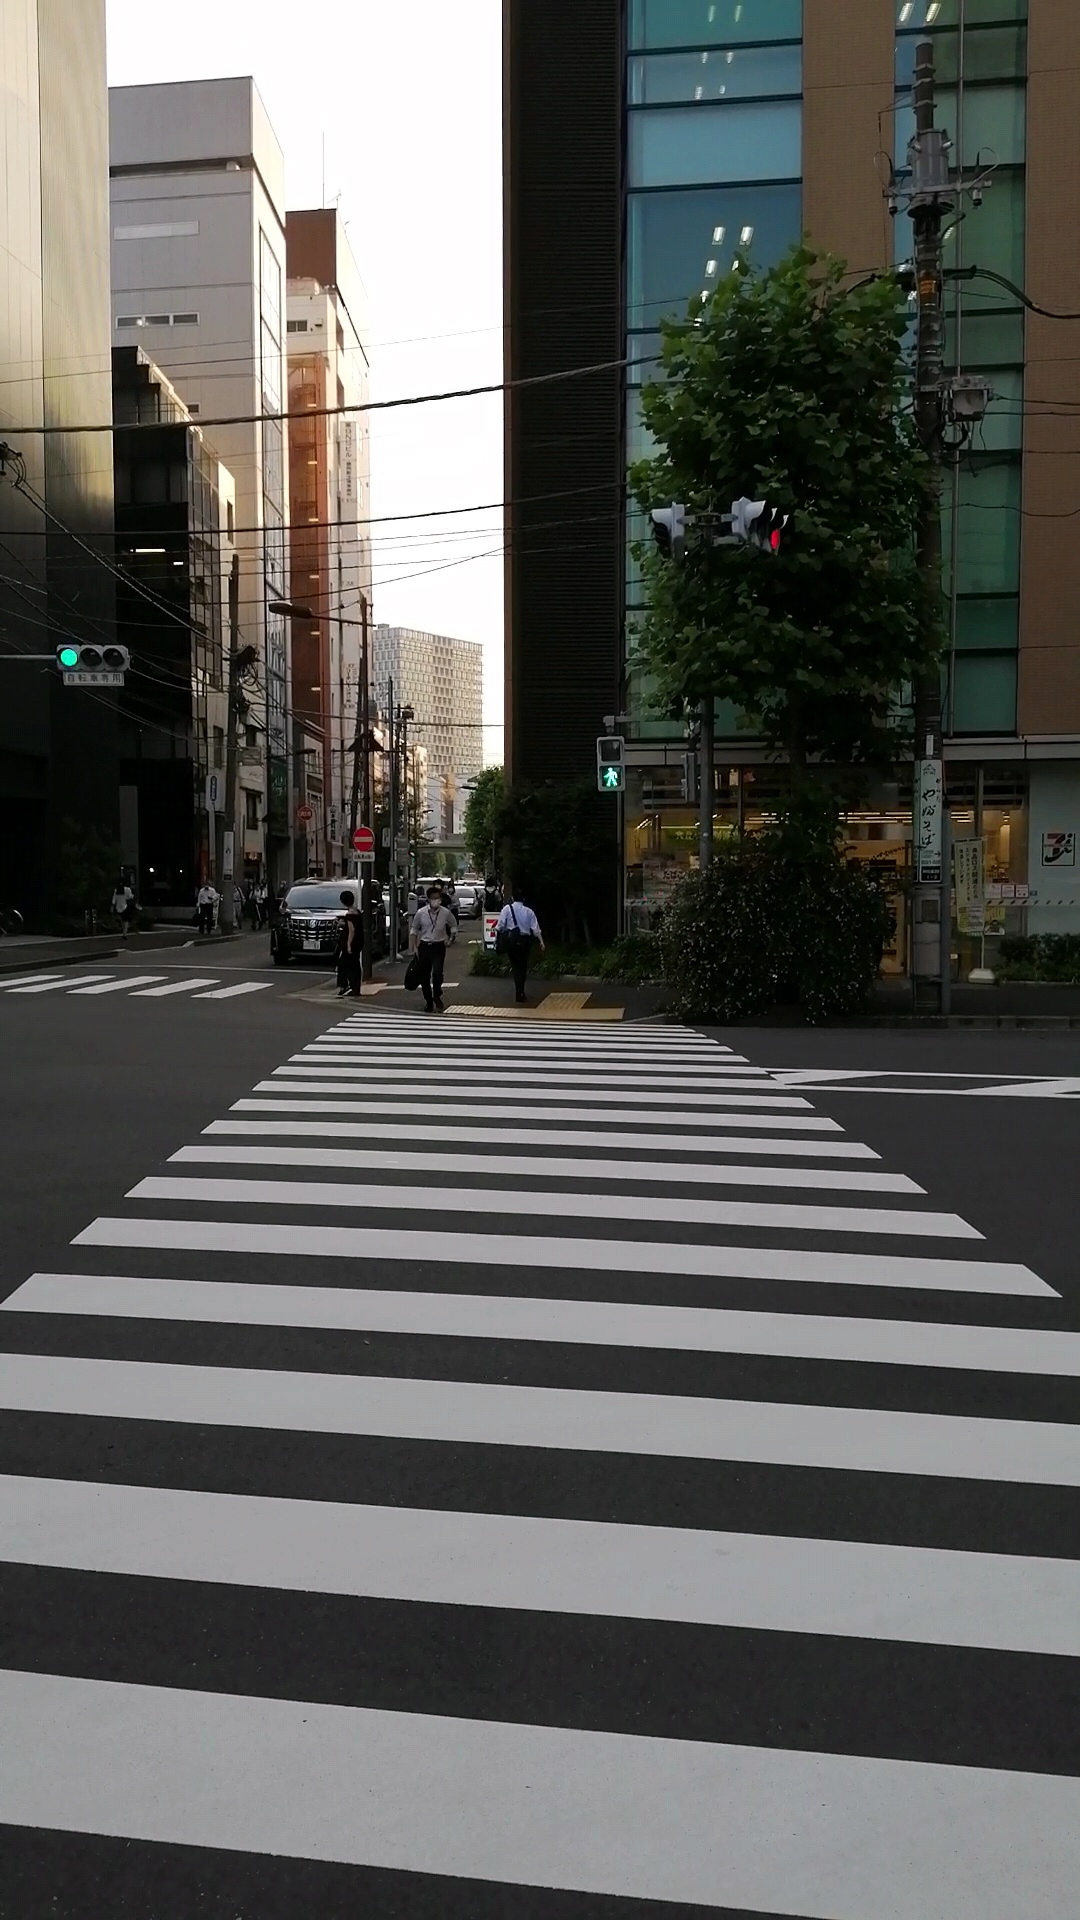green: (595, 735, 626, 793)
